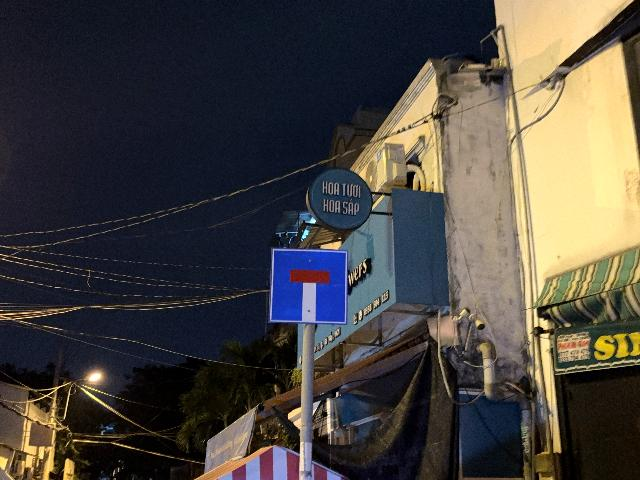duong-cut: (271, 246, 347, 324)
